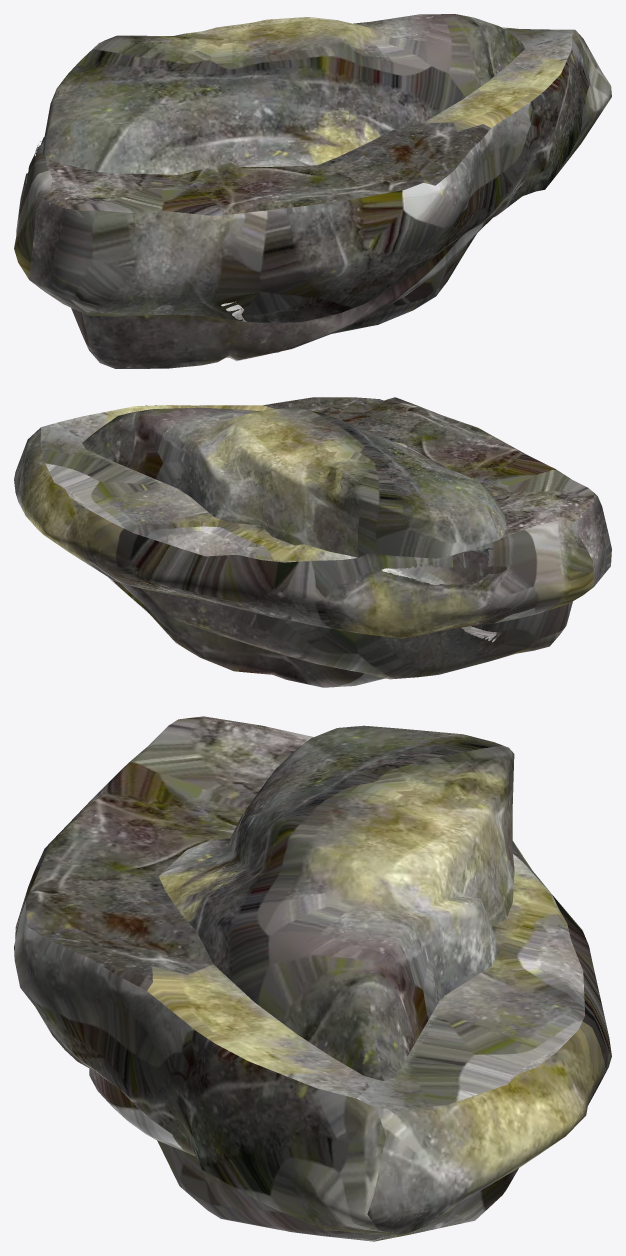
3 renders of one model, top to bottom at view 1: azimuth 30°, elevation 25°; view 2: azimuth 150°, elevation 25°; view 3: azimuth 270°, elevation 25°, orthographic. The views are drawn at different scales.
Parts seen in each view (by area): view 1: SM_Mining_Node_Medium_Clay_02_LOD0; view 2: SM_Mining_Node_Medium_Clay_02_LOD0; view 3: SM_Mining_Node_Medium_Clay_02_LOD0.
Boxes of the visible parts, bbox=[...] form: SM_Mining_Node_Medium_Clay_02_LOD0: bbox=[14, 14, 611, 368]; SM_Mining_Node_Medium_Clay_02_LOD0: bbox=[14, 397, 611, 687]; SM_Mining_Node_Medium_Clay_02_LOD0: bbox=[14, 716, 611, 1241].
Size of the model in its own units: 3.55 by 1.49 by 2.16.
